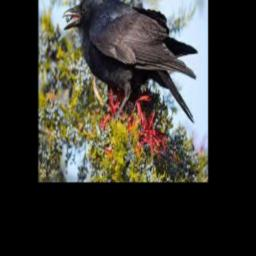Crow: (62, 0, 197, 124)
